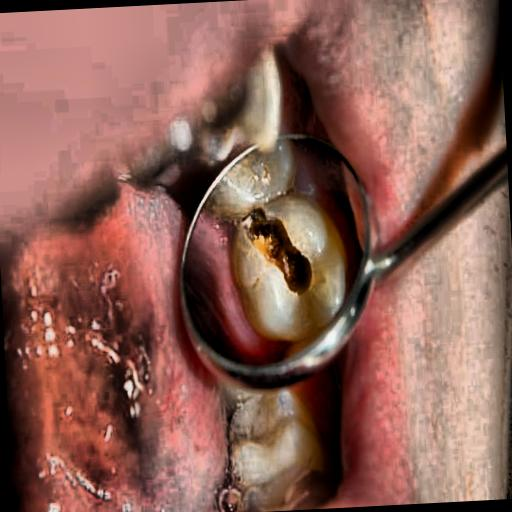Caries: (227, 198, 348, 324)
